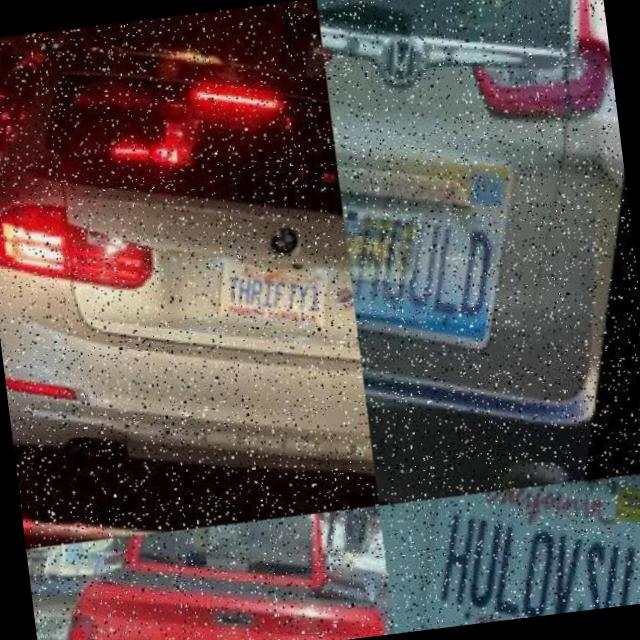LicensePlate: (400, 470, 640, 630), (342, 196, 424, 296), (216, 260, 328, 328)
